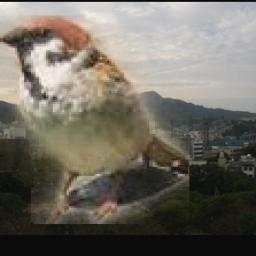Sparrow: (1, 16, 191, 225)
